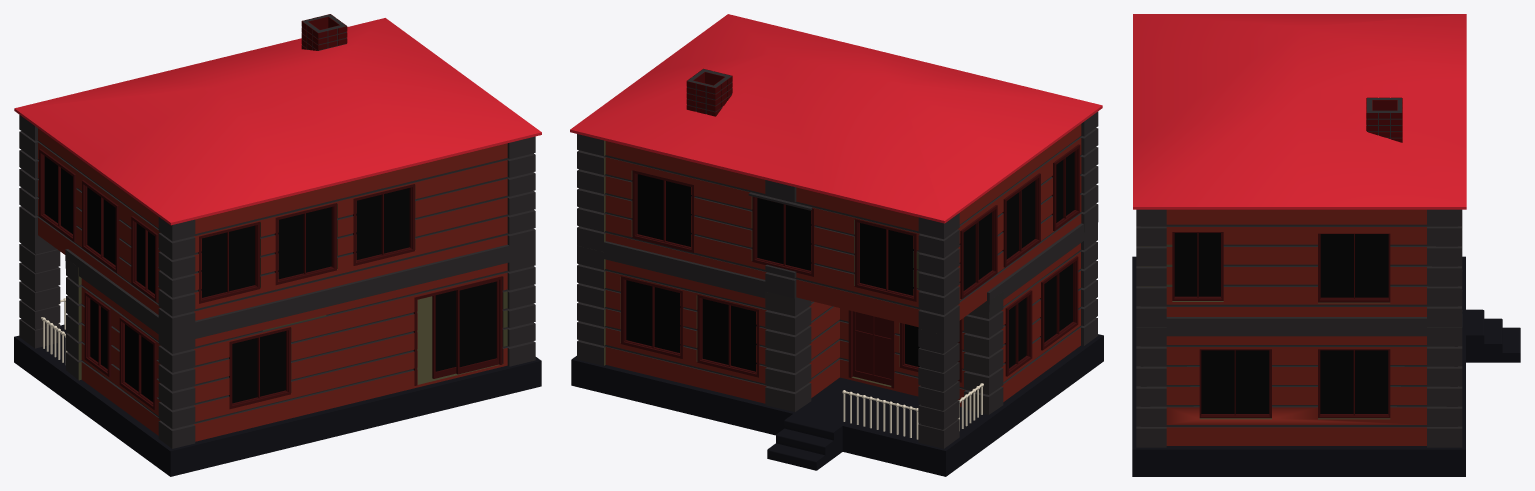
File: FarmhausAnimated.FBX
The picture shows the model from 3 angles, left to right: view 1: azimuth 30°, elevation 25°; view 2: azimuth 150°, elevation 25°; view 3: azimuth 270°, elevation 25°; orthographic projection. The views are drawn at different scales.
Visible parts, largest first — view 1: Erdgeschoss, Schiebe_Tür001, Rahmen_Fenster011, Rahmen_Fenster010, Rahmen_Fenster009, Rahmen_Fenster012, Rahmen_Fenster008, Rahmen_Fenster014, Rahmen_Fenster007, Rahmen_Fenster019, Rahmen_Fenster018; view 2: Erdgeschoss, Rahmen_Fenster017, Rahmen_Fenster003, Rahmen_Fenster015, Rahmen_Fenster002, Rahmen_Fenster016, Rahmen_Fenster008, Rahmen_Fenster007, Rahmen_Fenster014, Haustuere, Rahmen_Fenster018, Rahmen_Fenster019 (+2 smaller); view 3: Erdgeschoss, Rahmen_Fenster004, Rahmen_Fenster005, Rahmen_Fenster006, Rahmen_Fenster013.
Part boxes in pixels (<box>): Erdgeschoss: <box>14,14,541,476</box>; Schiebe_Tür001: <box>413,276,502,385</box>; Rahmen_Fenster011: <box>274,203,336,285</box>; Rahmen_Fenster010: <box>198,221,260,303</box>; Rahmen_Fenster009: <box>229,327,290,408</box>; Rahmen_Fenster012: <box>353,184,414,265</box>; Rahmen_Fenster008: <box>119,317,157,410</box>; Rahmen_Fenster014: <box>39,149,77,242</box>; Rahmen_Fenster007: <box>82,180,119,273</box>; Rahmen_Fenster019: <box>84,291,112,377</box>; Rahmen_Fenster018: <box>131,216,158,301</box>; Erdgeschoss: <box>570,14,1103,476</box>; Rahmen_Fenster017: <box>854,219,917,301</box>; Rahmen_Fenster003: <box>621,276,683,358</box>; Rahmen_Fenster015: <box>632,170,694,252</box>; Rahmen_Fenster002: <box>697,294,759,377</box>; Rahmen_Fenster016: <box>752,196,814,276</box>; Rahmen_Fenster008: <box>1040,256,1078,350</box>; Rahmen_Fenster007: <box>1002,173,1040,267</box>; Rahmen_Fenster014: <box>959,205,997,298</box>; Haustuere: <box>853,311,891,385</box>; Rahmen_Fenster018: <box>1051,144,1080,231</box>; Rahmen_Fenster019: <box>1004,290,1032,376</box>; Erdgeschoss: <box>1132,14,1520,476</box>; Rahmen_Fenster004: <box>1318,349,1390,418</box>; Rahmen_Fenster005: <box>1199,349,1271,418</box>; Rahmen_Fenster006: <box>1318,233,1390,302</box>; Rahmen_Fenster013: <box>1172,232,1223,300</box>.
Bounding box in the file's own units: 759 × 589 × 645.
